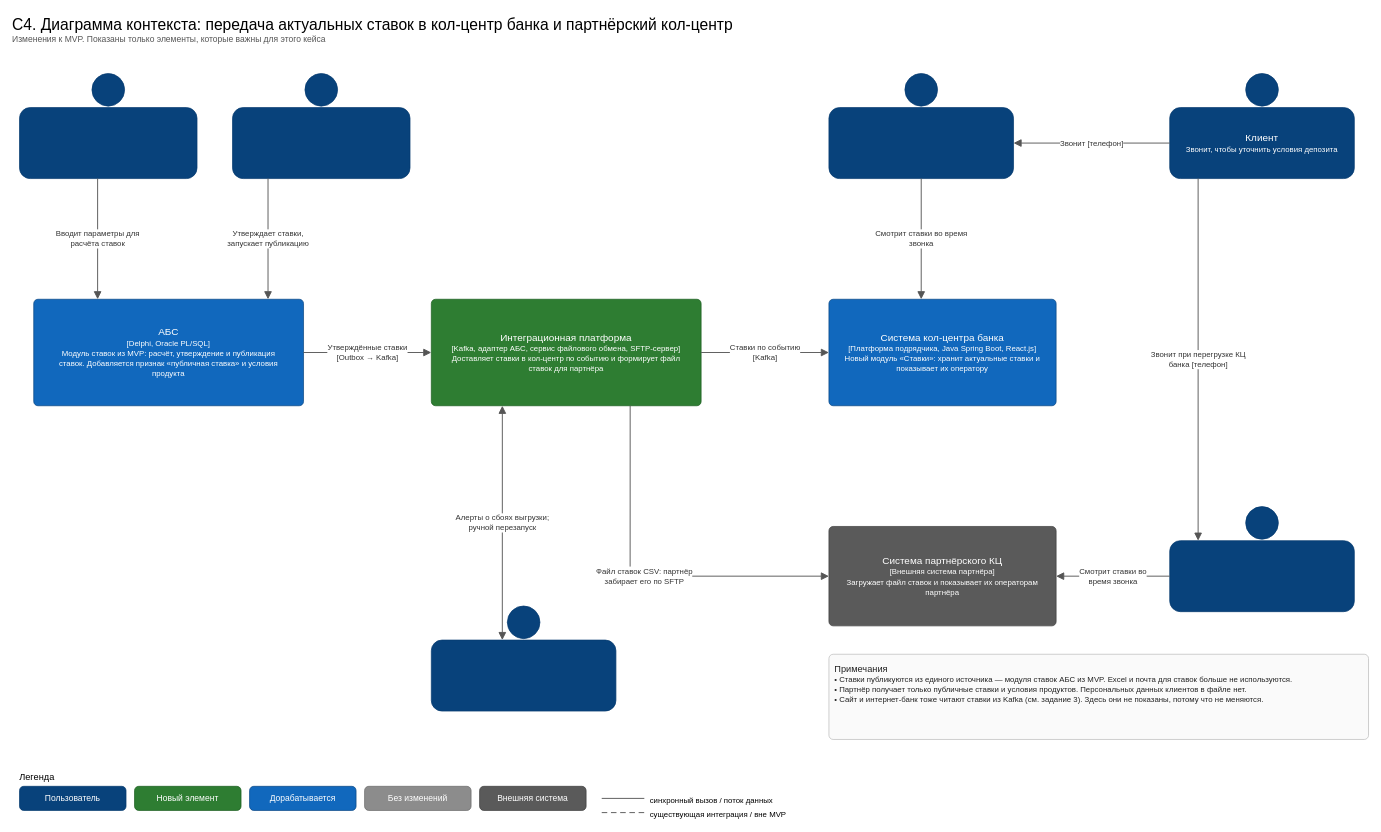
The diagram is 1381 pixels wide and 832 high, and some of its shapes have lost their labels. The shapes that lost their labels are listed below. From the top down, each one's centre as x and y in pixels, then its label:
point 108,143: Сотрудник бэк-офиса кредитов Вводит ставку ЦБ и уровень риска
point 321,143: Менеджер бэк-офиса депозитов Утверждает и публикует ставки
point 921,143: Оператор кол-центра банка Консультирует клиентов по ставкам
point 1261,576: Оператор партнёрского КЦ Консультирует клиентов при перегрузке КЦ банка
point 523,675: Сотрудник сопровождения IT Контролирует выгрузку ставок
